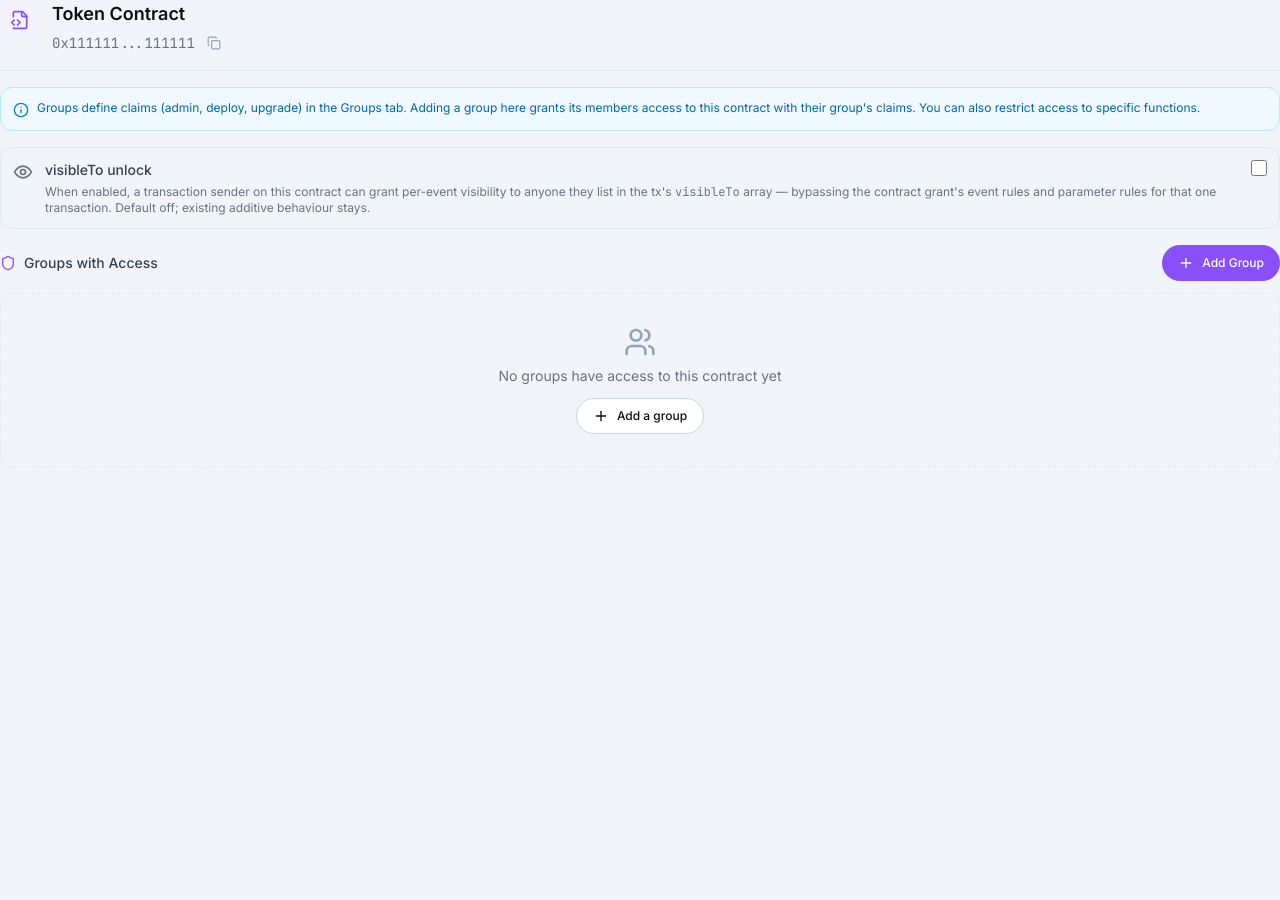
Test: ContractGrantsManager — event rules display › visibleTo unlock toggle (RD-874) › surfaces the API error if the toggle fails
Expected: the text "Groups with Access" is shown, [24, 253, 158, 273]
Click the switch named "allow visibleto to unlock event visibility" at (1259, 168), box [1251, 160, 1267, 176]
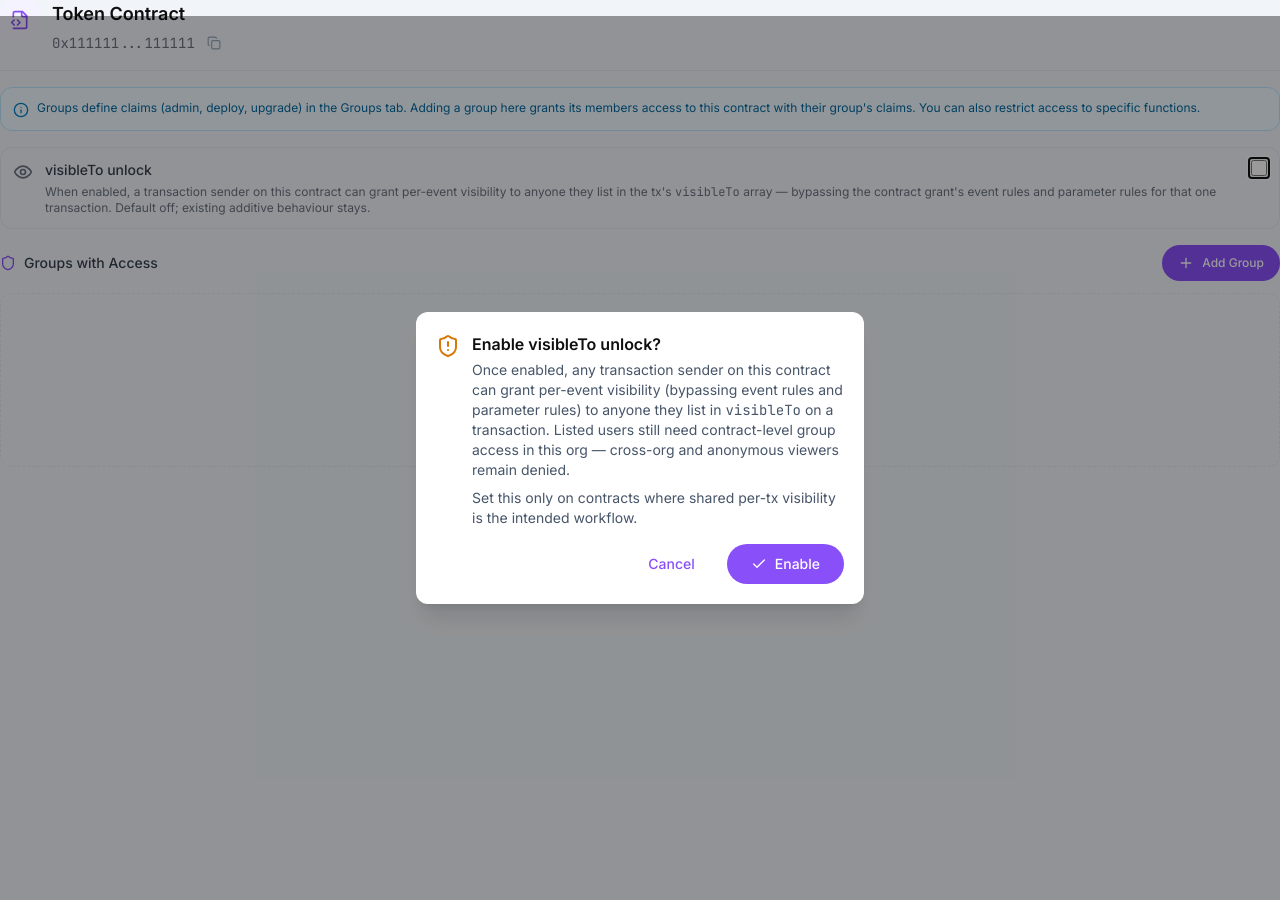
Click the button "Enable" at (785, 564), box [727, 544, 844, 584]
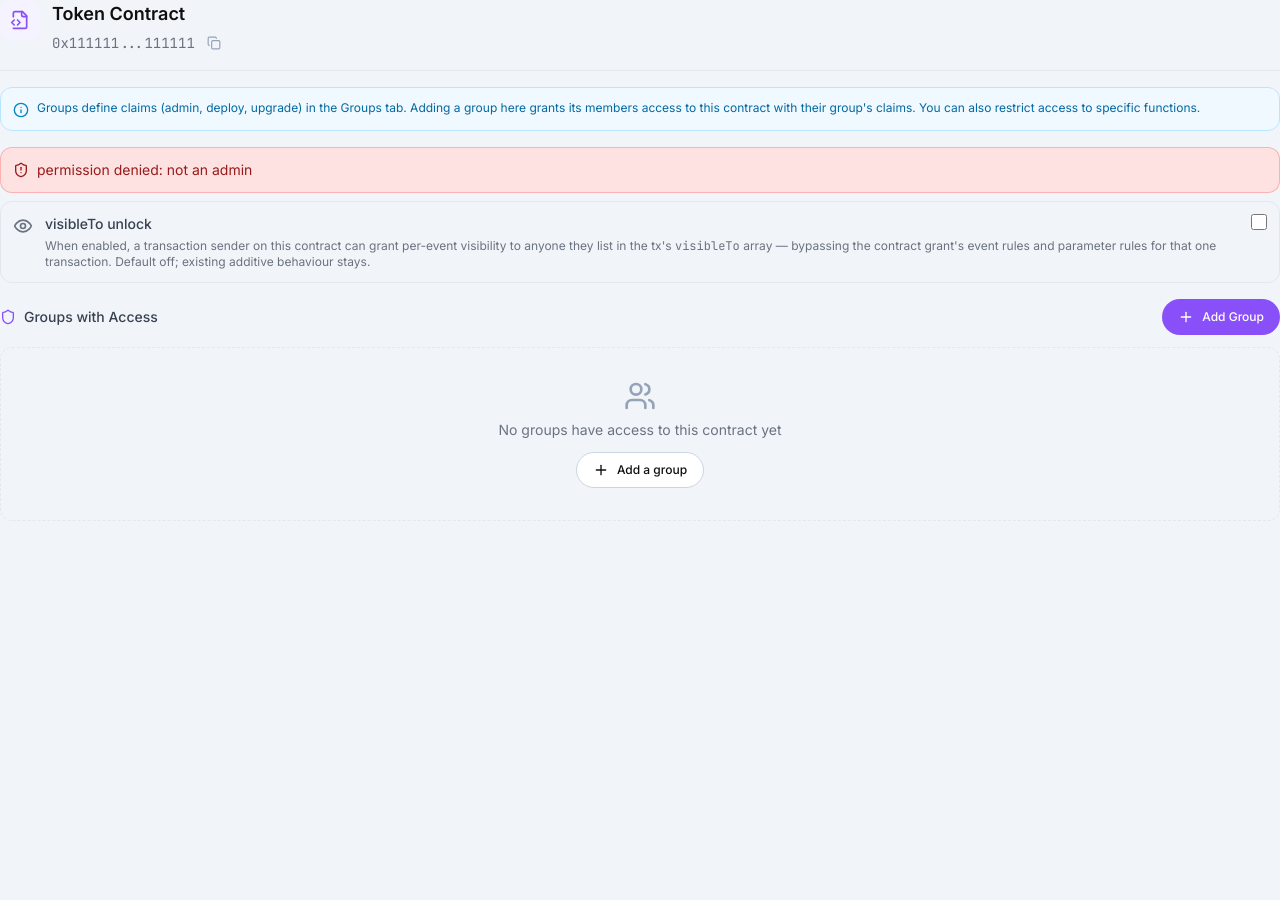
Expected: the text "permission denied: not an admin" is shown, [37, 160, 252, 180]
